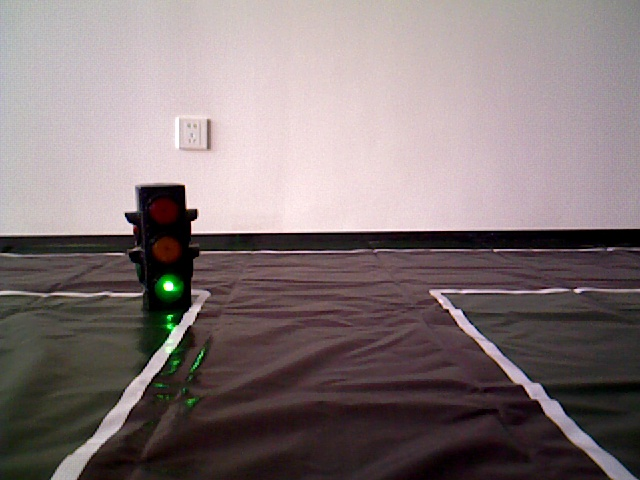green: (139, 189, 186, 297)
